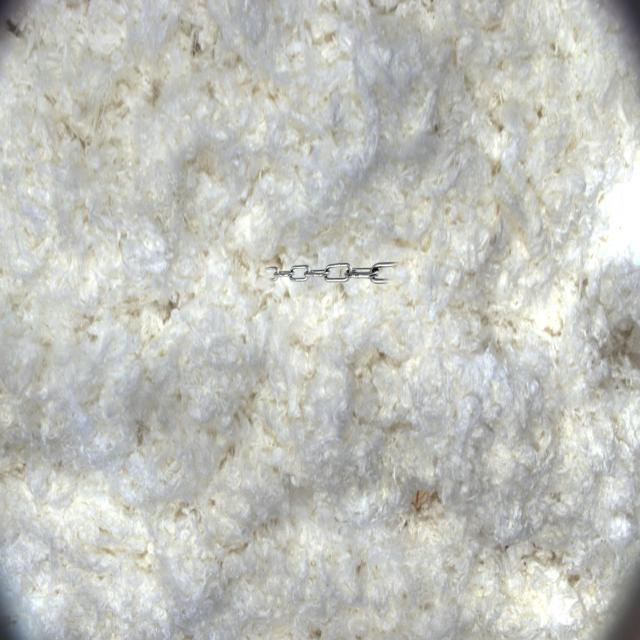dust: (254, 220, 410, 352)
